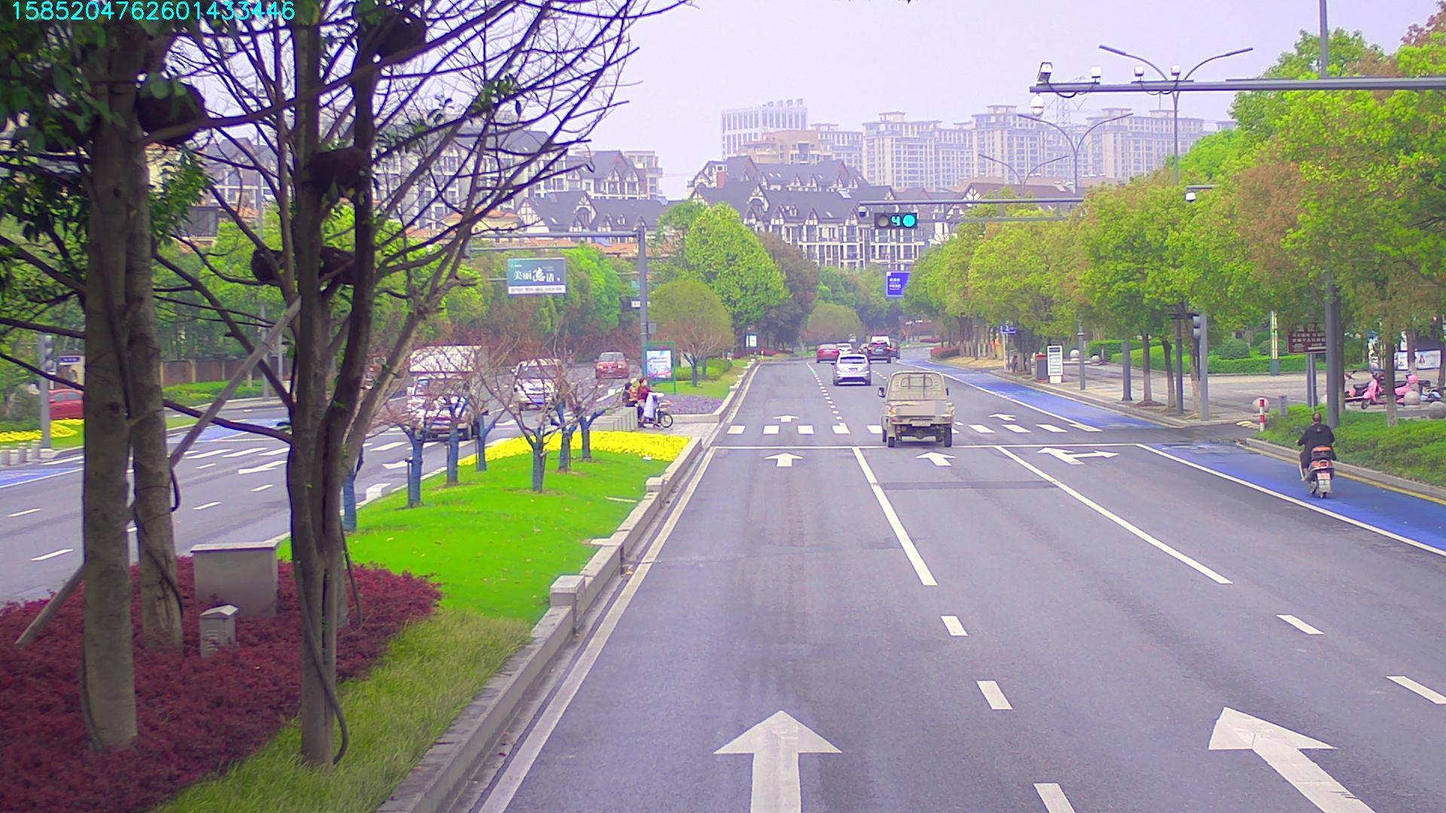green: (874, 211, 912, 230)
